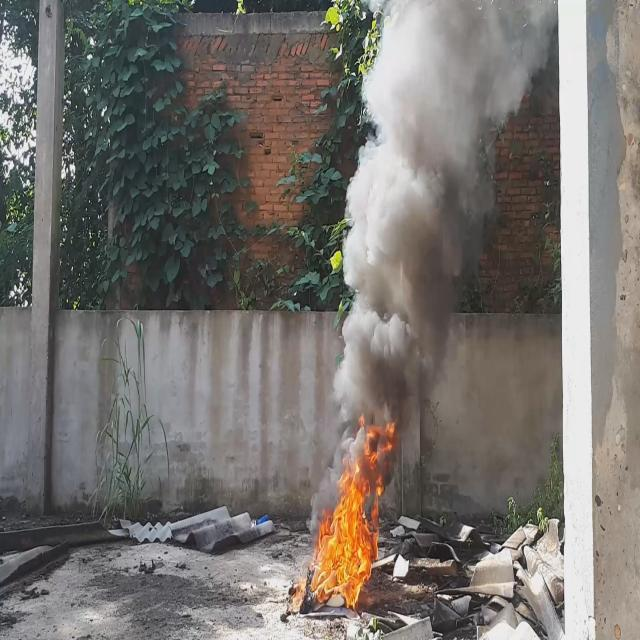Fire: (308, 416, 400, 610)
Smoke: (336, 0, 557, 482)
